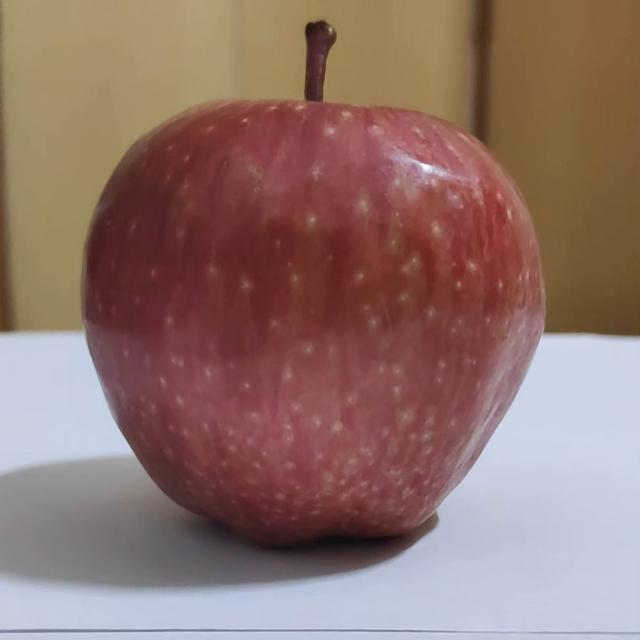apple: (77, 19, 550, 547)
